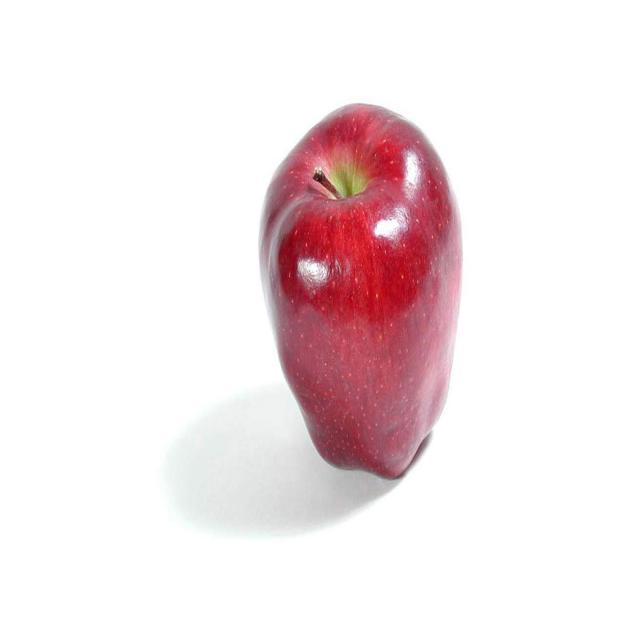Apple: (255, 94, 461, 477)
